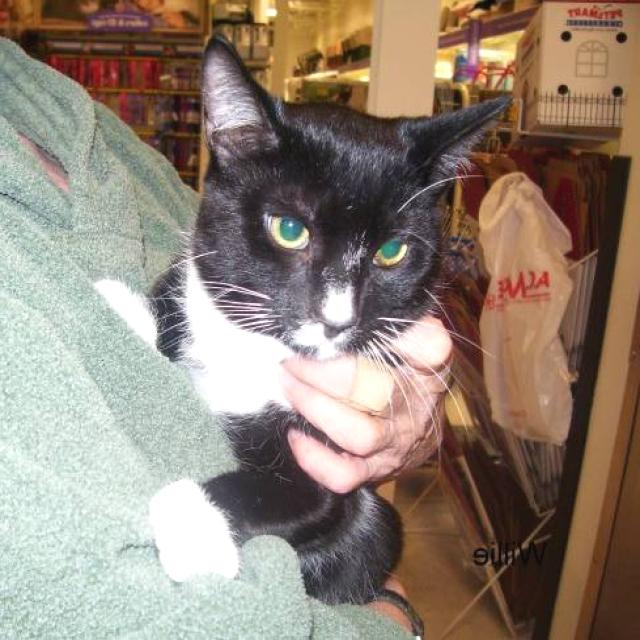Kucing: (40, 23, 532, 636)
